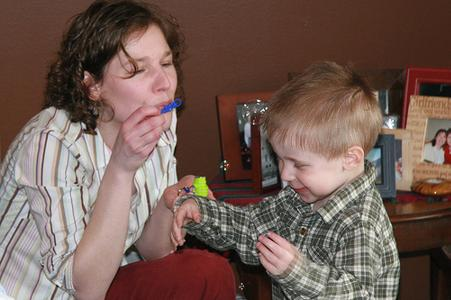person: (3, 3, 238, 300)
